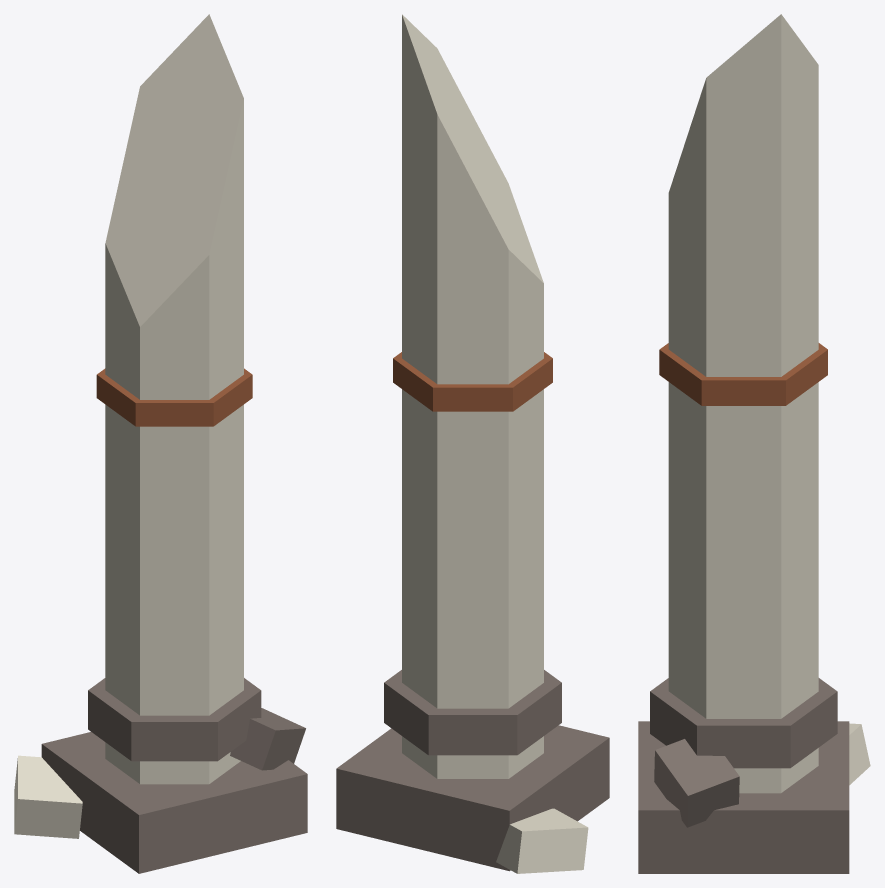
File: ruin_pillar.fbx
The picture shows the model from 3 angles, left to right: view 1: azimuth 30°, elevation 25°; view 2: azimuth 150°, elevation 25°; view 3: azimuth 270°, elevation 25°; orthographic projection. The views are drawn at different scales.
Visible parts, largest first — view 1: ruin_pillar; view 2: ruin_pillar; view 3: ruin_pillar.
Part boxes in pixels (<box>): ruin_pillar: <box>14,14,307,873</box>; ruin_pillar: <box>336,14,609,873</box>; ruin_pillar: <box>638,14,870,873</box>.
Bounding box in the file's own units: 1.28 × 4.01 × 0.9913.
